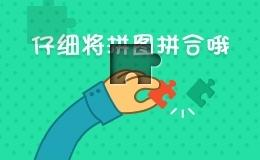target: (90, 24, 130, 64)
